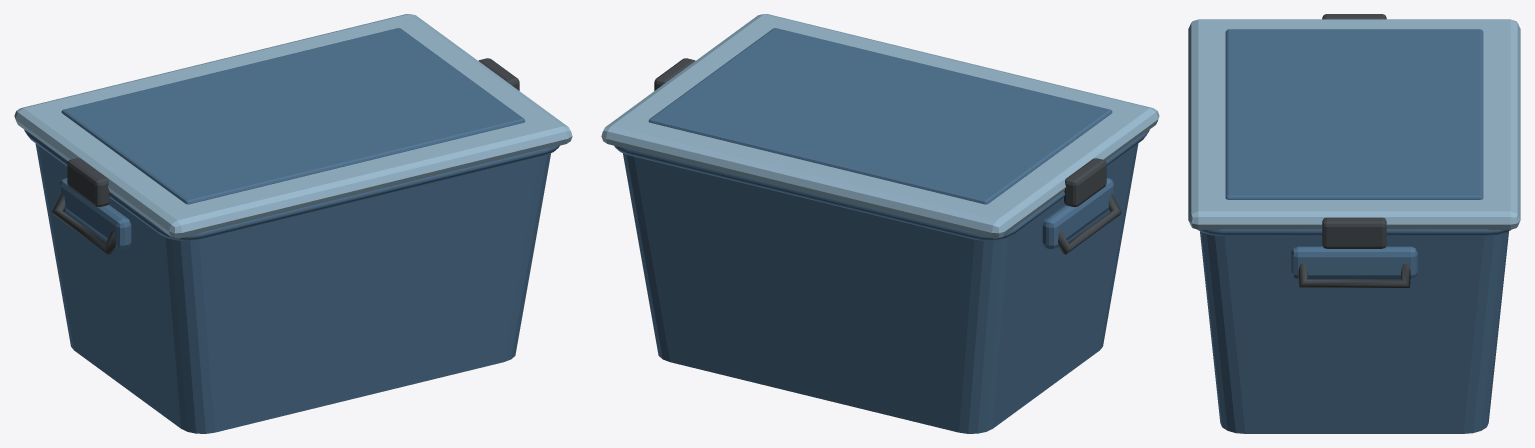
File: tote_lidded.glb
The picture shows the model from 3 angles, left to right: view 1: azimuth 30°, elevation 25°; view 2: azimuth 150°, elevation 25°; view 3: azimuth 270°, elevation 25°; orthographic projection.
Parts seen in each view (by area): view 1: Lidded storage tote tapered closed wall, Recessed lid center, Closed fitted lid, Lidded storage tote rolled upper rim, End grip mount, Lid side latch, Folding black handle; view 2: Lidded storage tote tapered closed wall, Recessed lid center, Closed fitted lid, Lidded storage tote rolled upper rim, End grip mount, Lid side latch, Folding black handle; view 3: Lidded storage tote tapered closed wall, Recessed lid center, Closed fitted lid, End grip mount.001, Lid side latch.001, Lidded storage tote rolled upper rim, Folding black handle.001, Lid side latch.
Part boxes in pixels (x1,y1,x2,y2): Lidded storage tote tapered closed wall: (35, 144, 550, 433); Recessed lid center: (61, 28, 525, 204); Closed fitted lid: (14, 14, 572, 238); Lidded storage tote rolled upper rim: (24, 130, 559, 240); End grip mount: (60, 178, 131, 248); Lid side latch: (67, 158, 109, 207); Folding black handle: (52, 194, 115, 254); Lidded storage tote tapered closed wall: (623, 144, 1138, 433); Recessed lid center: (648, 28, 1112, 204); Closed fitted lid: (601, 14, 1159, 238); Lidded storage tote rolled upper rim: (614, 130, 1149, 240); End grip mount: (1042, 178, 1113, 248); Lid side latch: (1064, 158, 1106, 207); Folding black handle: (1058, 194, 1121, 254); Lidded storage tote tapered closed wall: (1200, 231, 1508, 433); Recessed lid center: (1225, 29, 1483, 199); Closed fitted lid: (1188, 19, 1520, 229); End grip mount.001: (1291, 246, 1417, 278); Lid side latch.001: (1322, 217, 1386, 248); Lidded storage tote rolled upper rim: (1198, 229, 1510, 235); Folding black handle.001: (1298, 264, 1410, 287); Lid side latch: (1322, 14, 1386, 19).
Bounding box in the file's own units: 0.6807 × 0.355 × 0.447.
